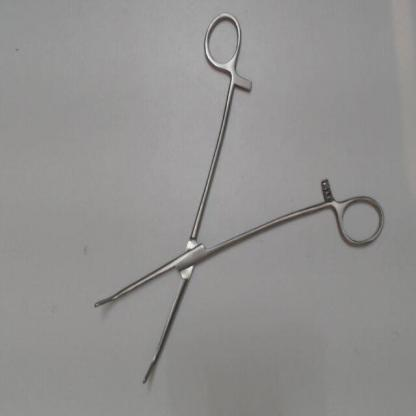Lahey Forceps: (85, 5, 388, 396)
